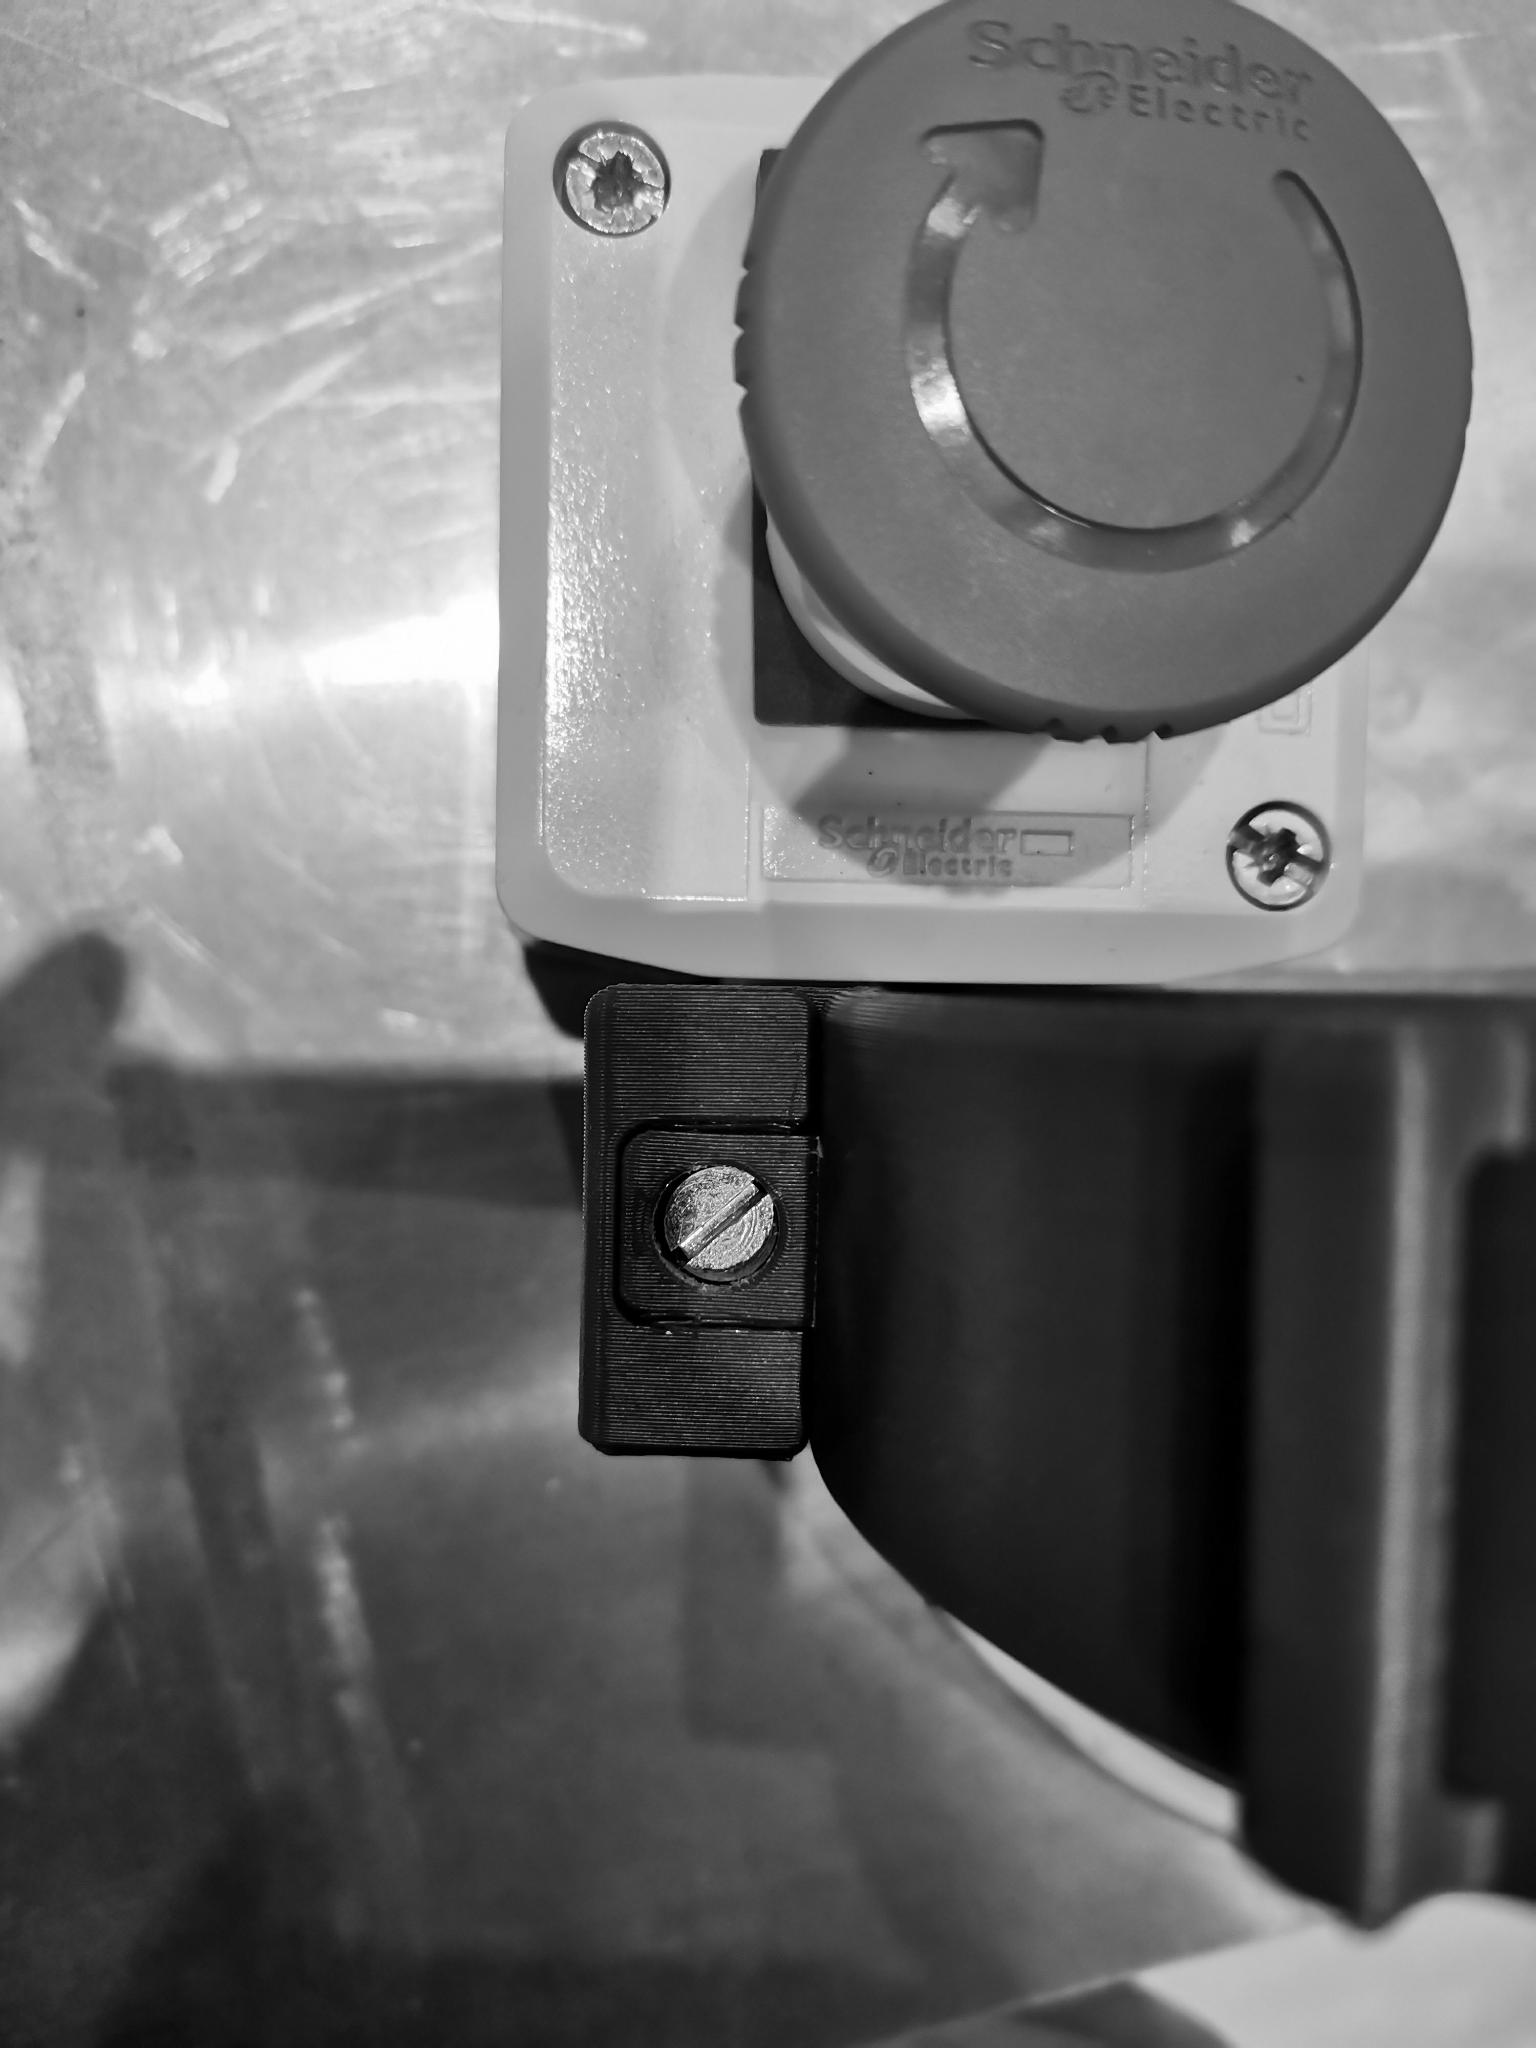slotted: (650, 1155, 787, 1295), (1215, 784, 1339, 919), (555, 119, 676, 244)
